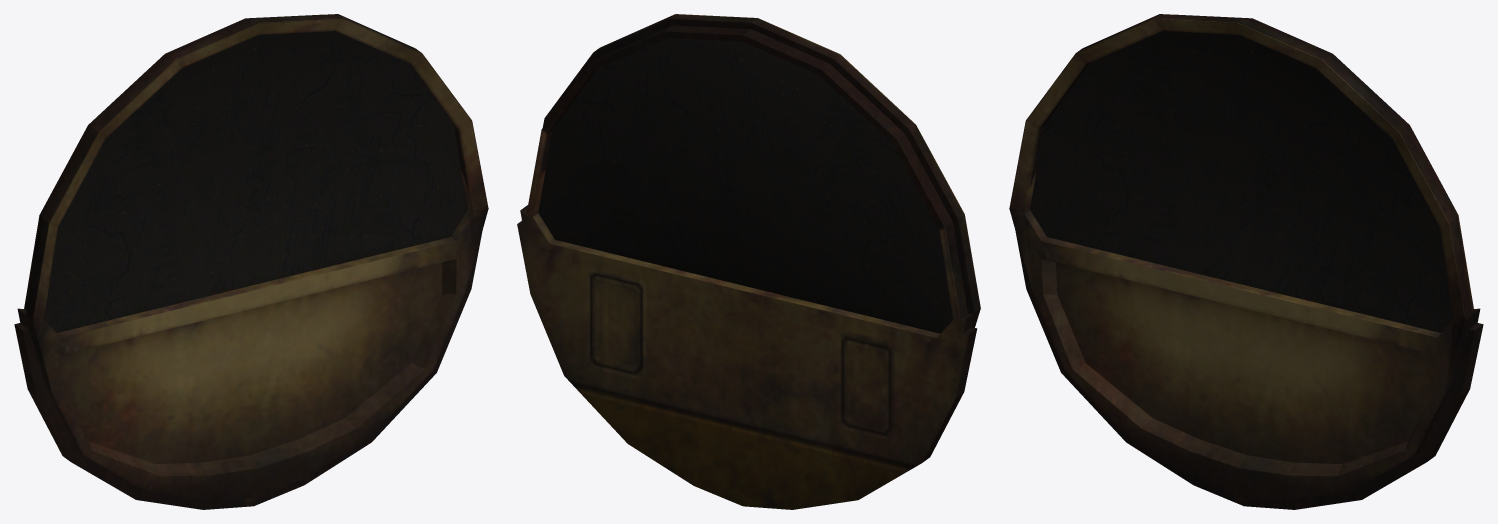
File: 01_05_transporter_passenger_fronthatch.dae
3 views of the same model, side by side, from view 1: azimuth 30°, elevation 25°; view 2: azimuth 150°, elevation 25°; view 3: azimuth 330°, elevation 25° (orthographic). The views are drawn at different scales.
Visible parts, largest first — view 1: polySurface1135, hatch_window; view 2: polySurface1135, hatch_window; view 3: polySurface1135, hatch_window.
Part boxes in pixels (x1,y1,x2,y2): polySurface1135: [14, 14, 488, 509]; hatch_window: [44, 31, 467, 332]; polySurface1135: [517, 14, 980, 509]; hatch_window: [538, 38, 953, 333]; polySurface1135: [1009, 14, 1483, 509]; hatch_window: [1030, 31, 1453, 332].
Bounding box in the file's own units: 2.54 × 2.57 × 0.1707.
